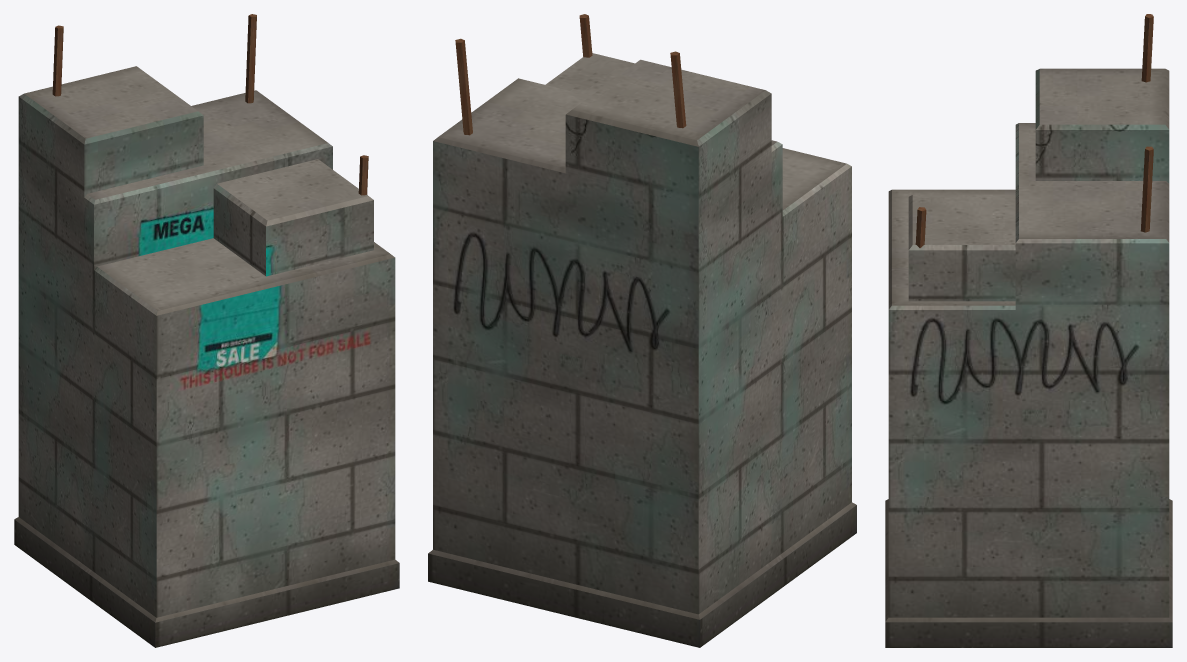
Rendered from prop_pillar_wallstub.glb.
3 views of the same model, side by side, from view 1: azimuth 30°, elevation 25°; view 2: azimuth 150°, elevation 25°; view 3: azimuth 270°, elevation 25° (orthographic). The views are drawn at different scales.
Visible parts, largest first — view 1: prop_pillar_wallstub_body; view 2: prop_pillar_wallstub_body; view 3: prop_pillar_wallstub_body.
Boxes of the visible parts, x1,y1,x2,y2 form: prop_pillar_wallstub_body: [14, 14, 399, 647]; prop_pillar_wallstub_body: [428, 14, 856, 647]; prop_pillar_wallstub_body: [885, 14, 1172, 647].
Bounding box in the file's own units: 0.86 × 1.74 × 0.86.
Materials: 1 (1 with a texture image).
